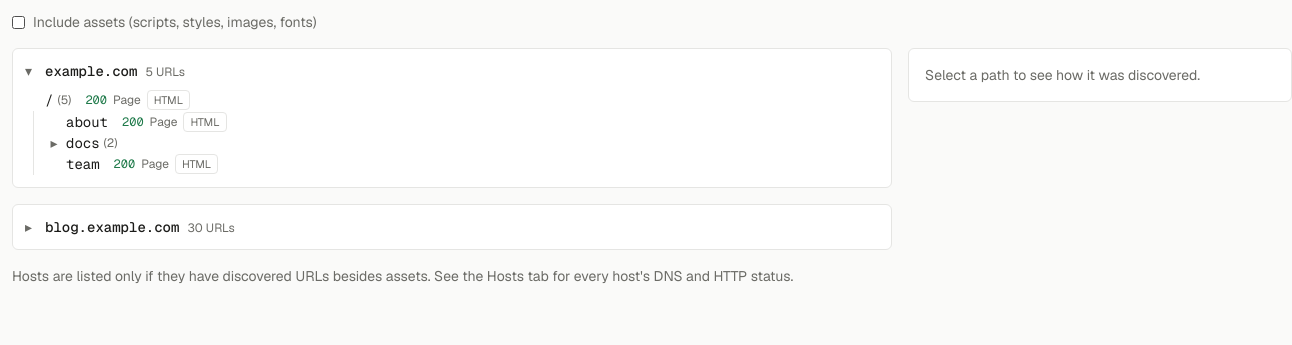
Scenario: SiteMap loads only what is shown › loads a folder's children when it is expanded, and more on request
Step 1. Click the button named "Expand /docs" → click(54, 143), box [46,133,62,153]
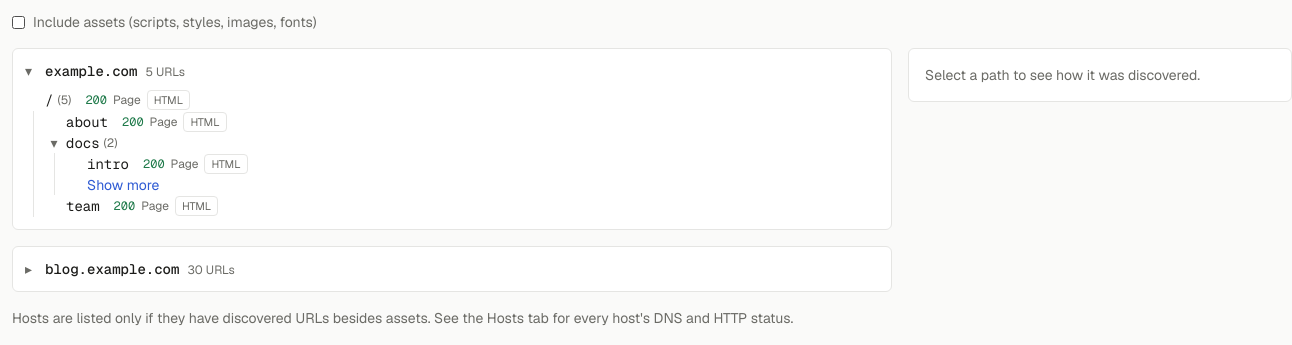
Expected: the button "intro" is shown, [87,154,129,174]
Step 2. Click the button "Show more" → click(123, 185), box [87,175,159,195]
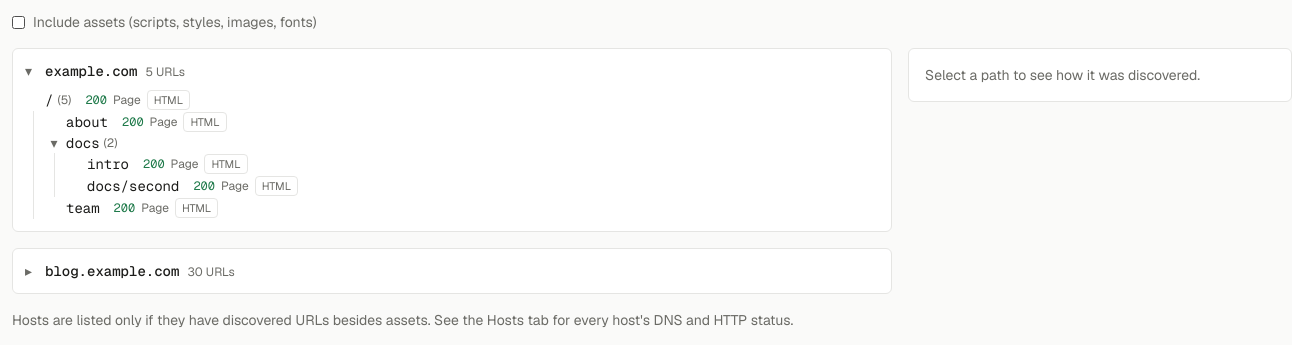
Expected: the button "docs/second" is shown, [87,176,179,196]
